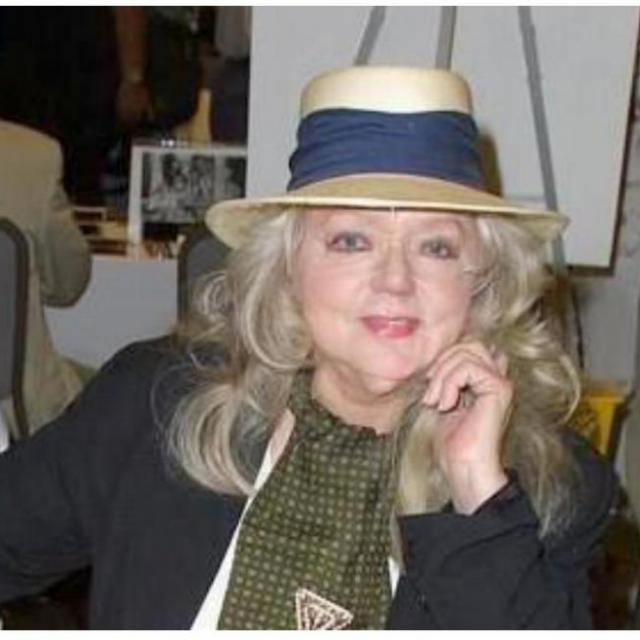live: (269, 181, 509, 407)
